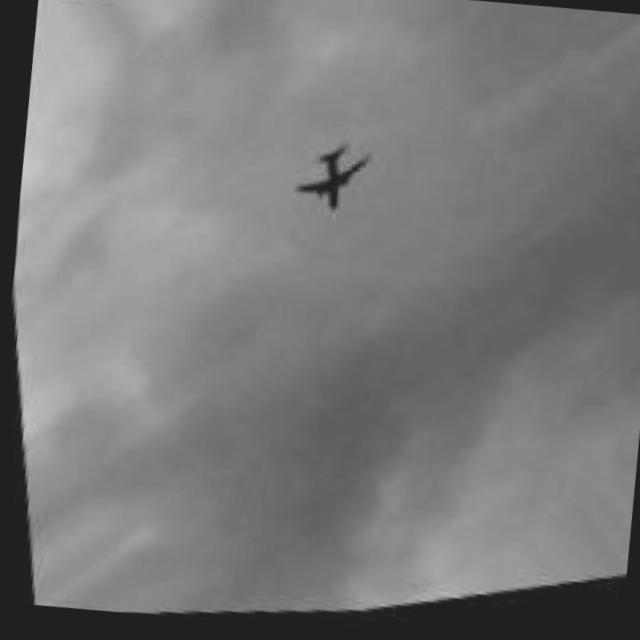aeroplane: (268, 127, 381, 235)
